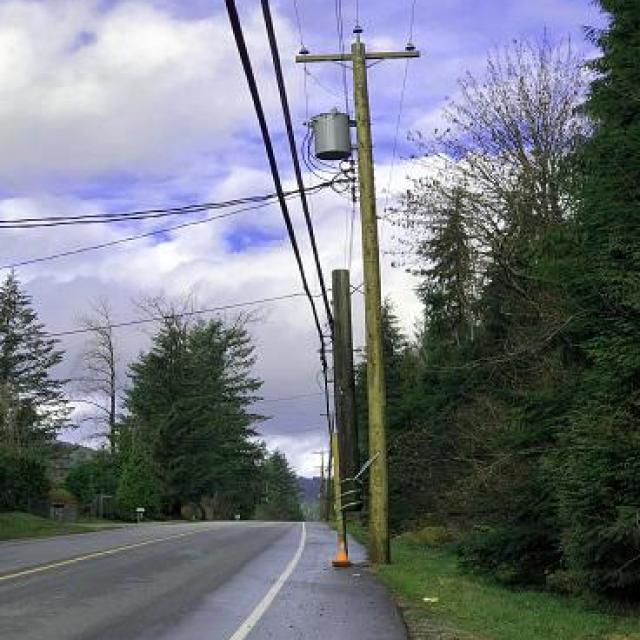non-critical vegetation: (291, 22, 438, 568)
